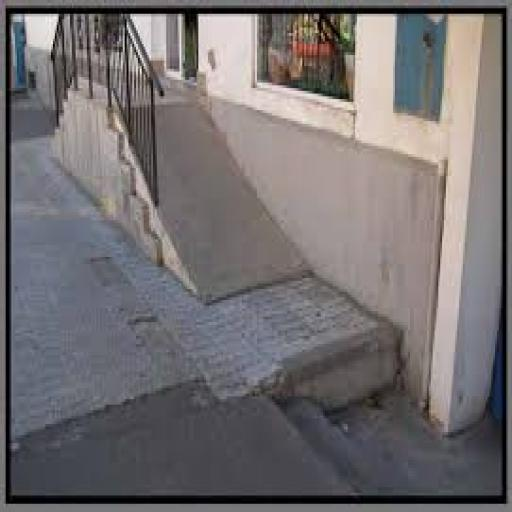ramp: (104, 106, 314, 304)
